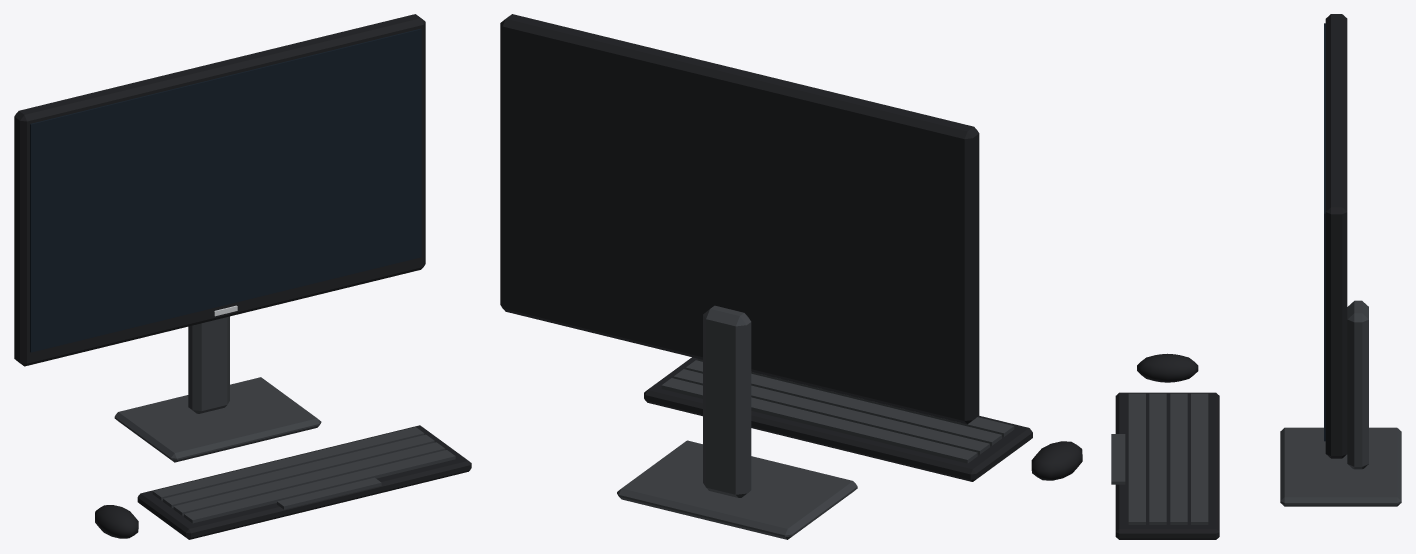
The model's file is monitor.glb.
3 renders of one model, left to right at view 1: azimuth 30°, elevation 25°; view 2: azimuth 150°, elevation 25°; view 3: azimuth 270°, elevation 25°, orthographic. The views are drawn at different scales.
Parts seen in each view (by area): view 1: monitor; view 2: monitor; view 3: monitor.
Boxes of the visible parts, left/top/right/bottom form: monitor: left=14, top=14, right=471, bottom=539; monitor: left=500, top=14, right=1082, bottom=539; monitor: left=1111, top=14, right=1401, bottom=539.
Bounding box in the file's own units: 0.5418 × 0.46 × 0.335.
